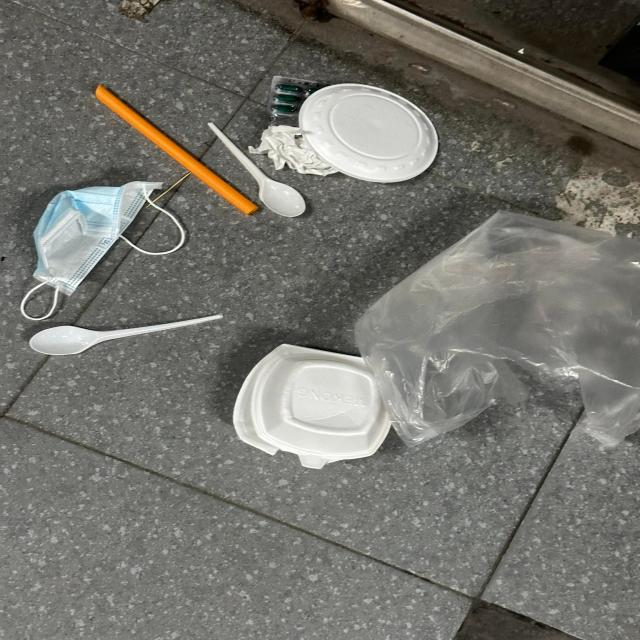bag: (355, 209, 640, 448)
drinking straw: (94, 84, 258, 217)
foam box: (234, 344, 395, 470)
mask: (20, 180, 184, 320)
napkin: (250, 126, 340, 179)
plastic holder: (297, 84, 439, 182)
plastic utensil: (208, 122, 307, 218), (29, 313, 222, 356)
